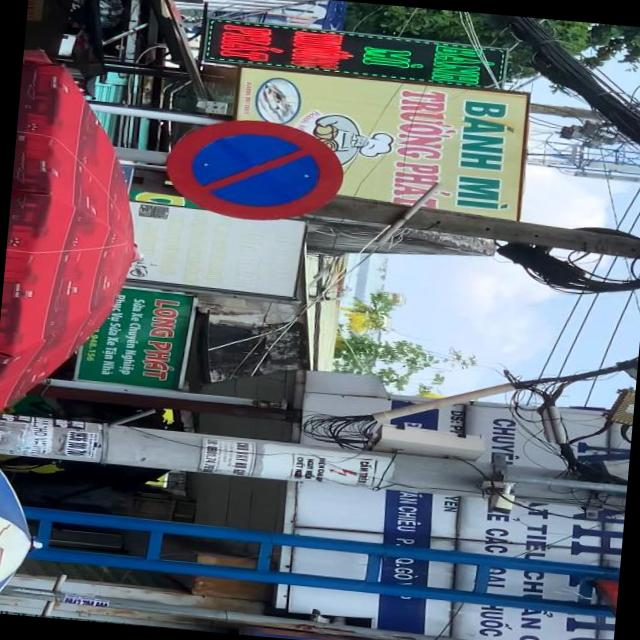P-131a: (162, 115, 346, 226)
